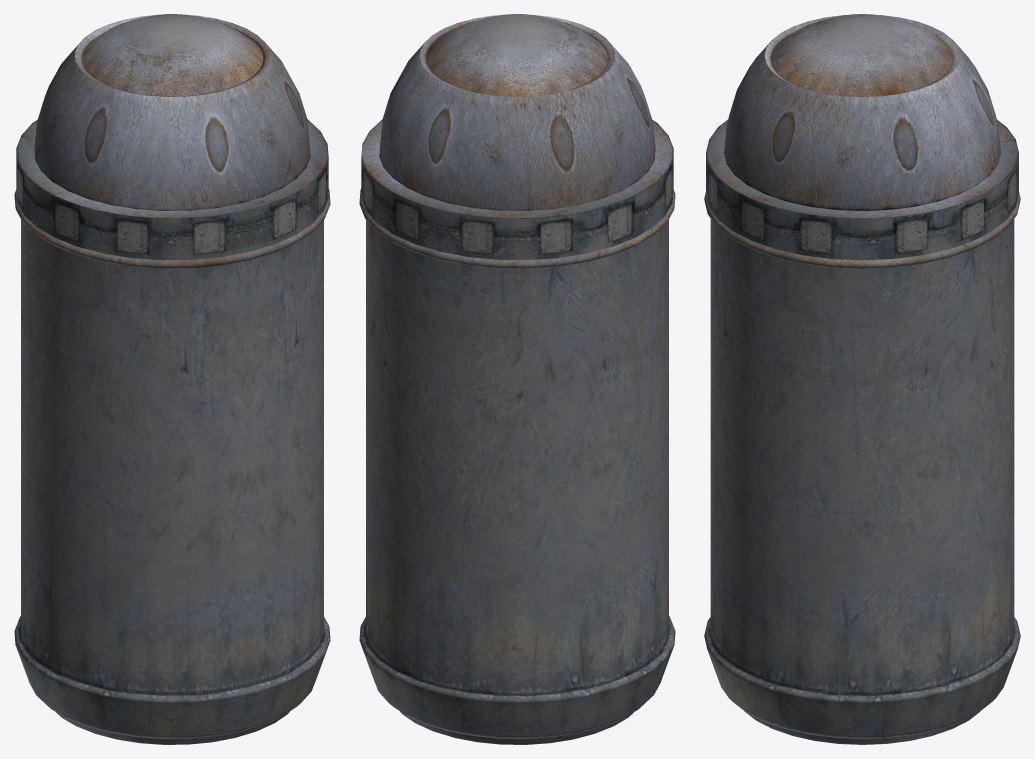
File: Toa_Canister.obj
3 views of the same model, side by side, from view 1: azimuth 30°, elevation 25°; view 2: azimuth 150°, elevation 25°; view 3: azimuth 270°, elevation 25° (orthographic).
Visible parts, largest first — view 1: Mesh; view 2: Mesh; view 3: Mesh.
Boxes of the visible parts, left/top/right/bottom form: Mesh: left=14, top=14, right=330, bottom=744; Mesh: left=359, top=14, right=675, bottom=744; Mesh: left=704, top=14, right=1020, bottom=744.
Size of the model in its own units: 2.09 by 4.84 by 2.09.
Materials: 1 (1 with a texture image).
